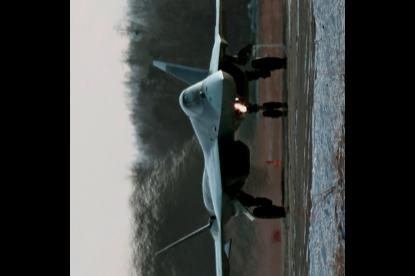SR71: (151, 0, 284, 275)
